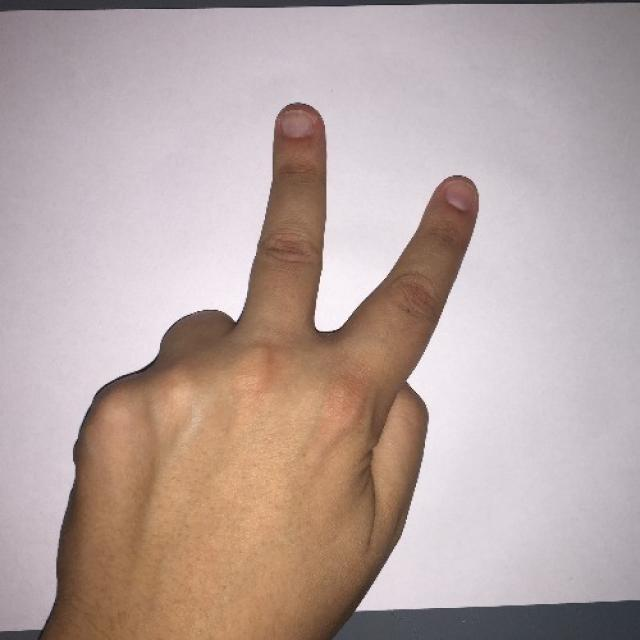scissors: (64, 97, 480, 629)
